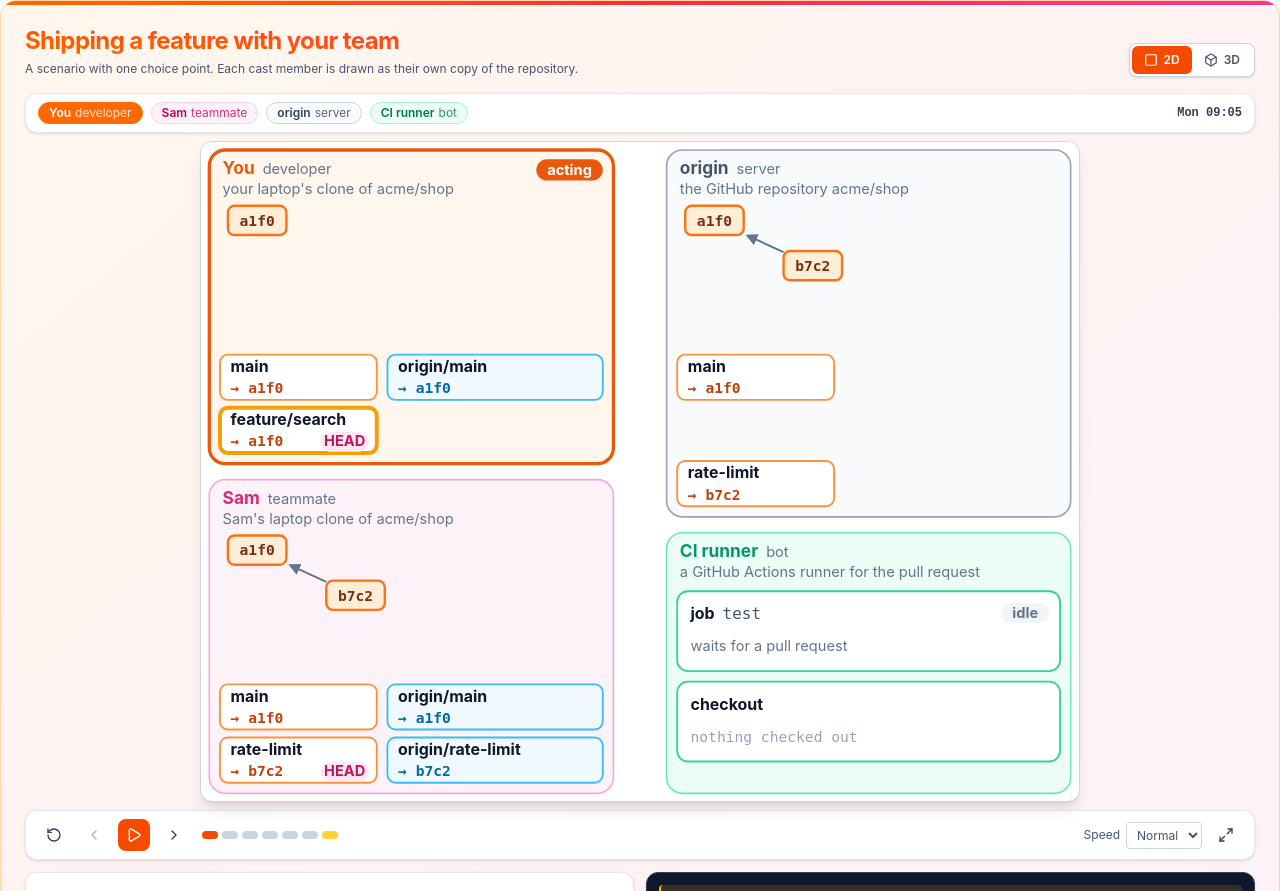
ShipAFeatureScenario › builds the transcript from every beat so far, the current one marked
Click the button named "Next beat": [174, 835] box [158,819,190,851]
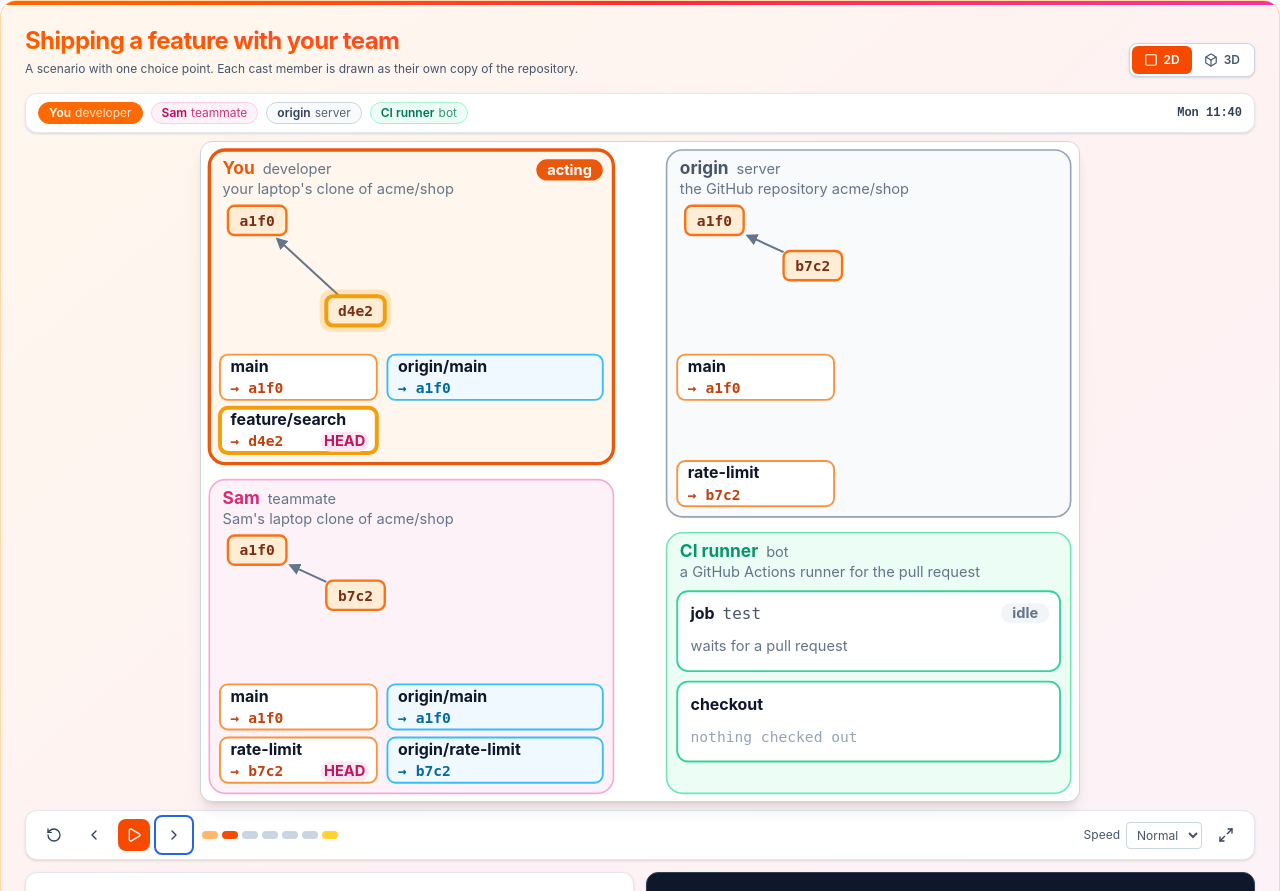
Click the button named "Next beat": [174, 835] box [158,819,190,851]
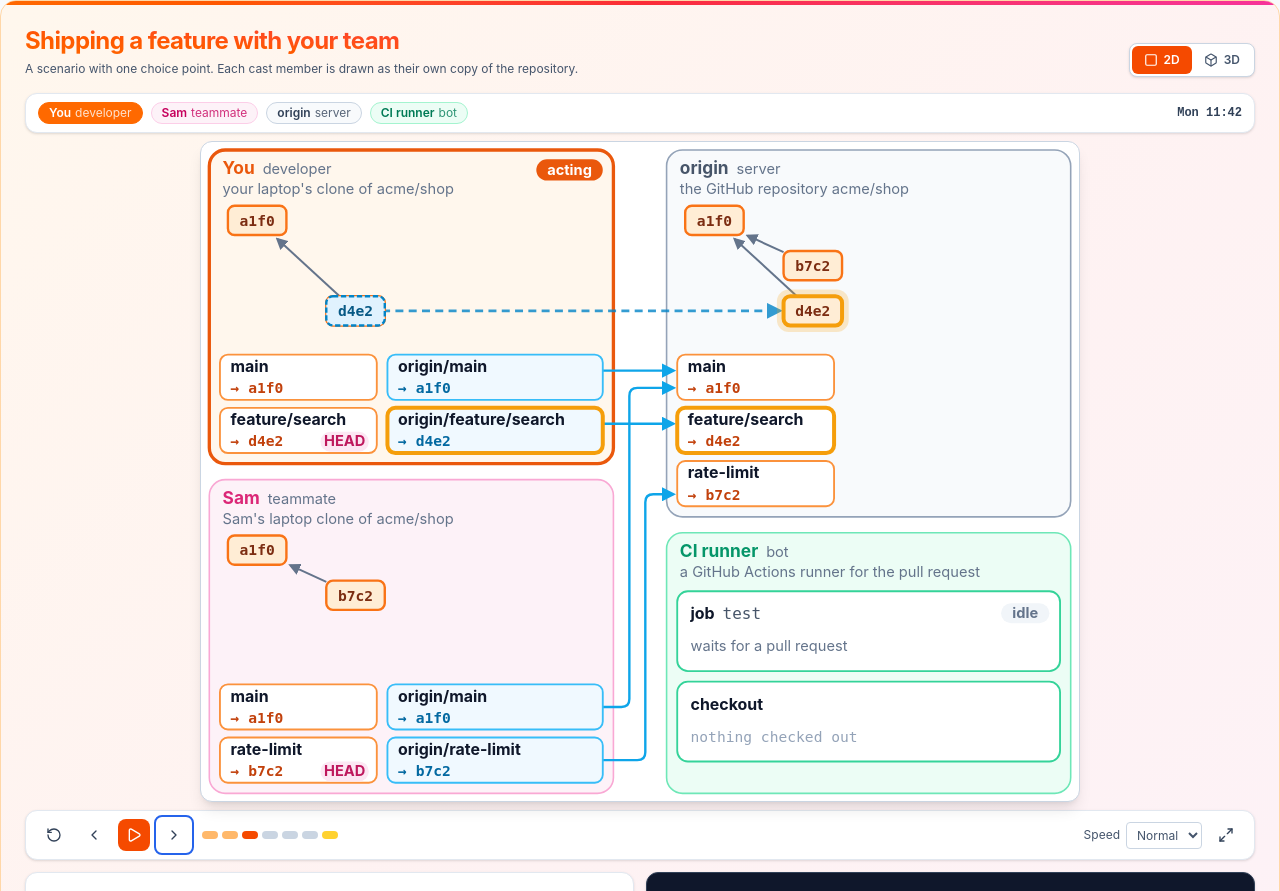
Click the button named "Next beat": [174, 835] box [158,819,190,851]
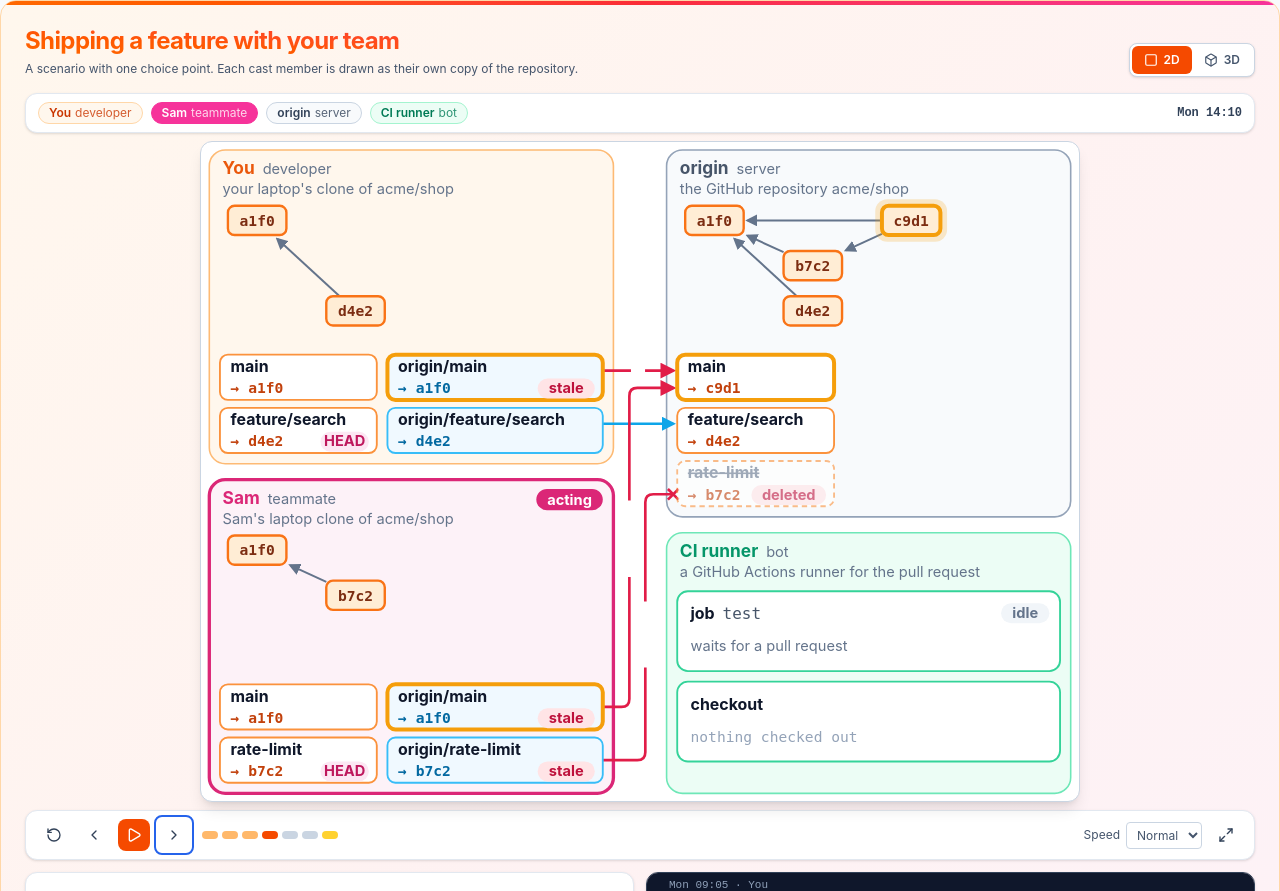
Check: the number of list items is 4
